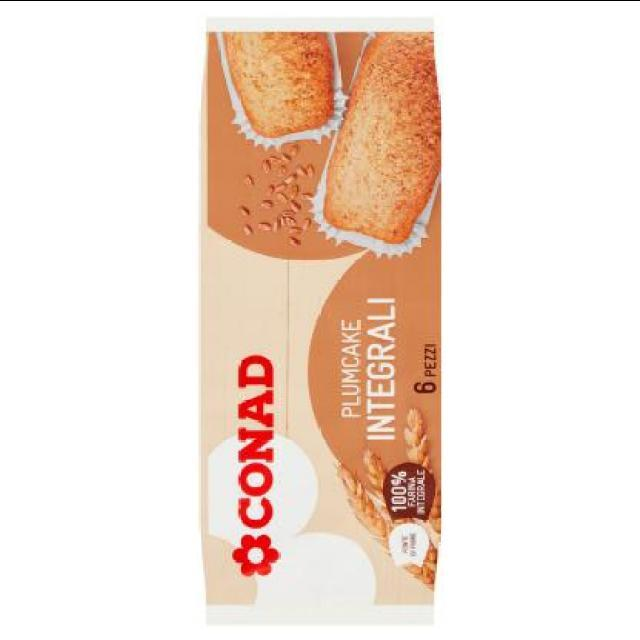Merendine: (187, 0, 450, 634)
